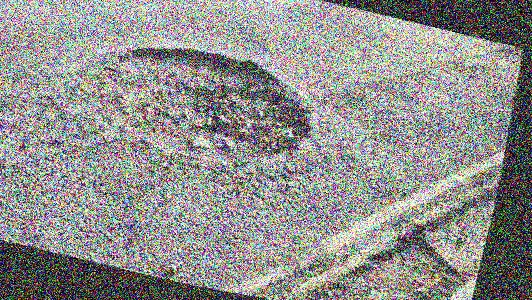pothole: (54, 12, 335, 189), (279, 197, 480, 300)
